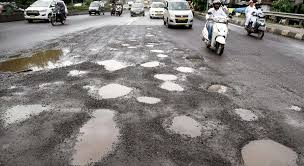potholes: (79, 56, 304, 141), (1, 61, 169, 163), (137, 61, 284, 156), (10, 30, 147, 111)
